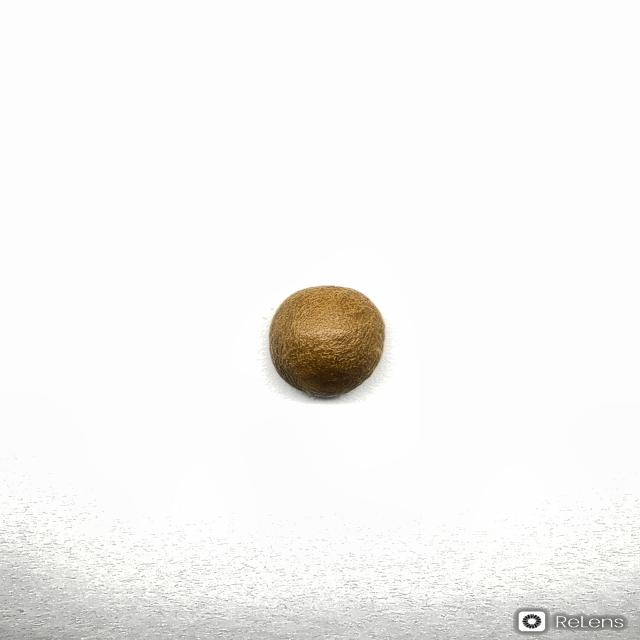Quaker: (267, 284, 386, 398)
